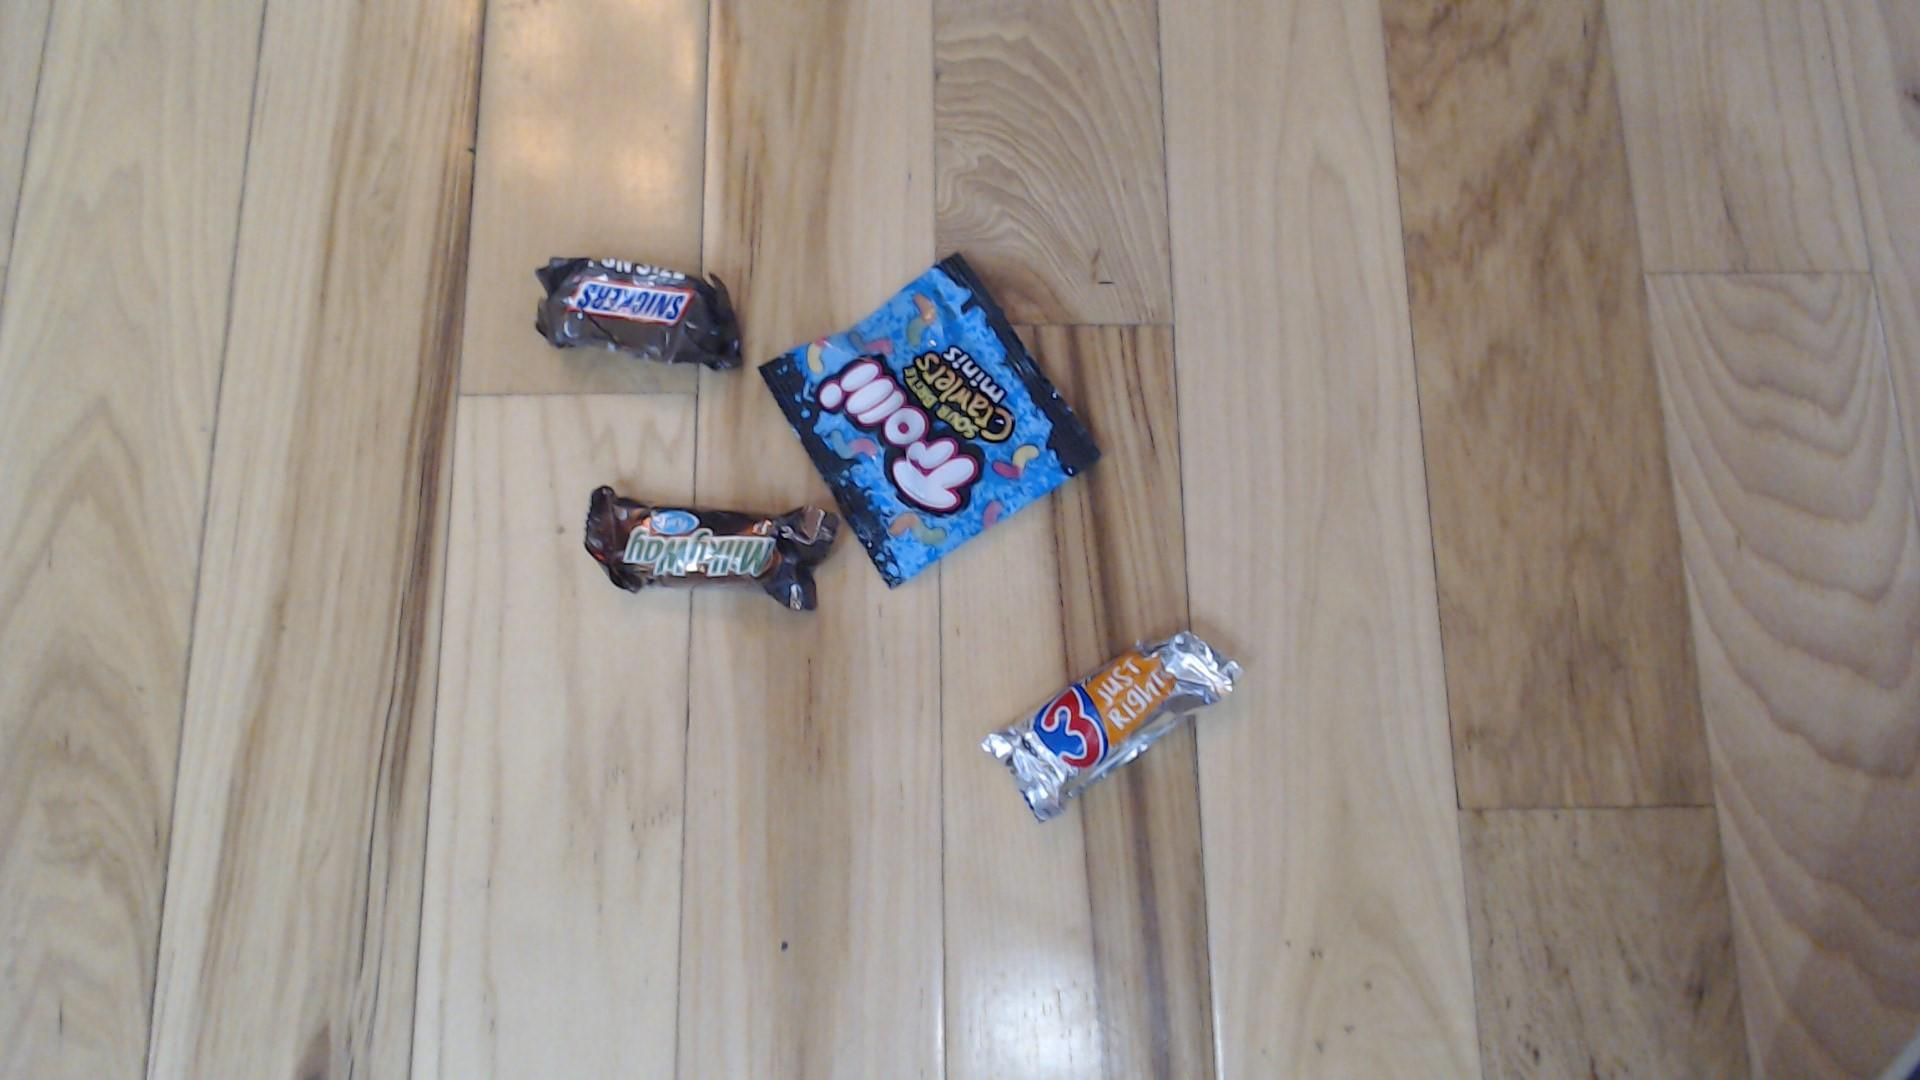Snickers: (533, 257, 748, 369)
Trolli: (757, 253, 1096, 585)
milky_way: (585, 487, 841, 609)
musketeers: (981, 629, 1237, 819)
